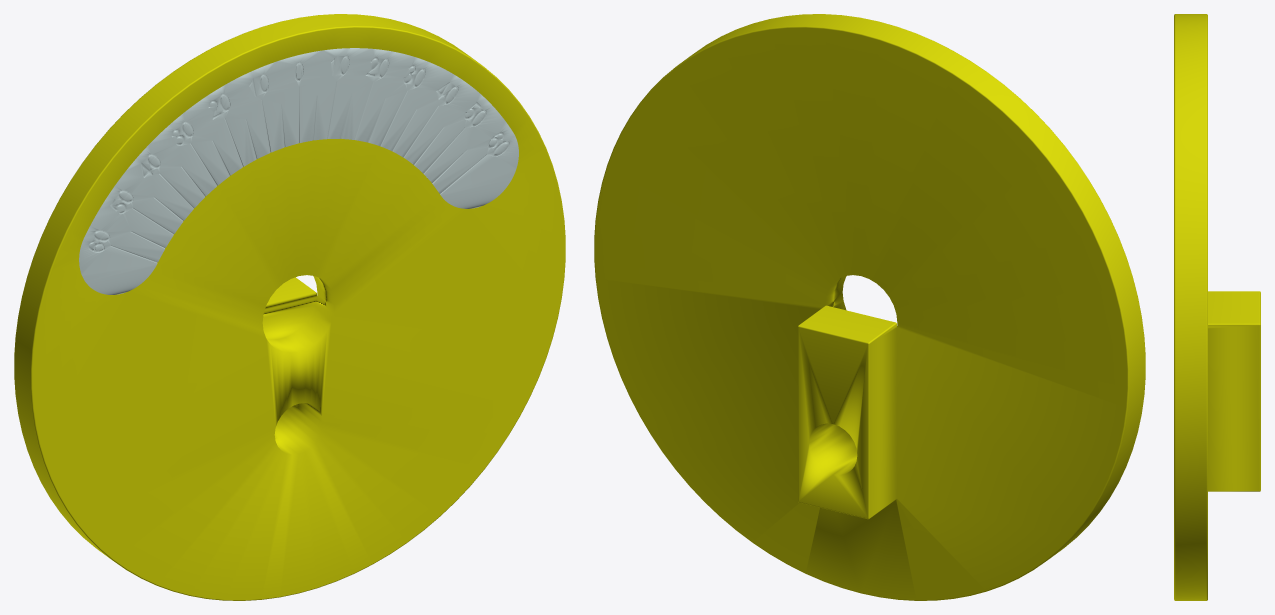
Rendered from lowerparts_frontplate.obj.
3 renders of one model, left to right at view 1: azimuth 30°, elevation 25°; view 2: azimuth 150°, elevation 25°; view 3: azimuth 270°, elevation 25°, orthographic. The views are drawn at different scales.
Size of the model in its own units: 44.31 by 44.34 by 6.55.
